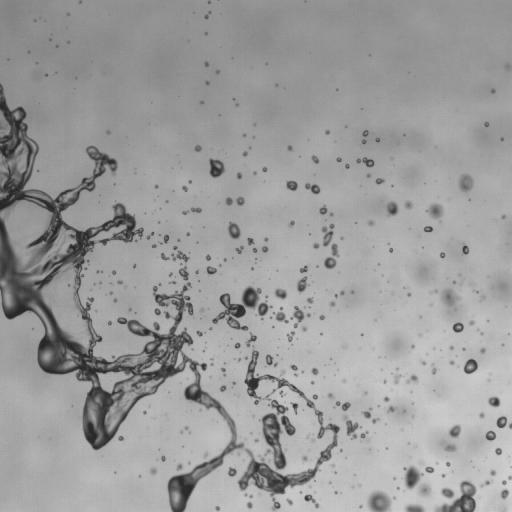droplet: (212, 286, 272, 330), (433, 480, 476, 511), (403, 465, 431, 496), (367, 490, 394, 511), (342, 415, 360, 439), (291, 306, 310, 327), (441, 288, 459, 305), (209, 158, 225, 177), (170, 246, 188, 262), (426, 203, 443, 218), (459, 174, 473, 191), (273, 307, 287, 323), (463, 358, 477, 374), (227, 221, 240, 238), (496, 416, 511, 429), (297, 276, 308, 292), (448, 424, 461, 437), (305, 183, 320, 194), (387, 201, 398, 216), (275, 288, 287, 299), (266, 354, 277, 366), (488, 396, 500, 407), (246, 333, 256, 346), (336, 401, 350, 410), (286, 180, 297, 190), (452, 322, 463, 332), (406, 374, 418, 383), (362, 407, 371, 418), (286, 331, 295, 341), (360, 431, 369, 441), (485, 431, 495, 440), (206, 266, 216, 274), (291, 402, 298, 413), (228, 467, 236, 476), (394, 373, 401, 383), (445, 444, 455, 451), (236, 197, 244, 205), (319, 206, 327, 214), (299, 265, 308, 272), (425, 466, 434, 473), (501, 489, 508, 498), (462, 244, 468, 254), (311, 155, 318, 163), (225, 197, 232, 205), (405, 201, 412, 208), (236, 246, 243, 253), (161, 253, 168, 260), (154, 308, 161, 315), (424, 226, 432, 232), (387, 406, 395, 412), (176, 463, 182, 471), (194, 145, 201, 151), (376, 178, 383, 184), (290, 365, 297, 371), (311, 368, 318, 374), (495, 448, 501, 455), (286, 498, 292, 505), (164, 234, 169, 242), (362, 130, 368, 136), (247, 238, 253, 244), (262, 246, 268, 252), (307, 297, 313, 303), (301, 325, 307, 331), (220, 385, 226, 391), (150, 468, 156, 474), (246, 502, 252, 508), (289, 220, 294, 227), (182, 185, 187, 191), (313, 243, 319, 248), (196, 331, 202, 336), (327, 393, 333, 398), (237, 172, 241, 179), (336, 157, 341, 162), (368, 220, 373, 225), (440, 252, 445, 257), (330, 301, 335, 306), (469, 320, 474, 325), (235, 343, 240, 348), (480, 348, 485, 353), (384, 396, 389, 401), (479, 413, 484, 418), (302, 456, 307, 461), (490, 470, 495, 475), (372, 418, 378, 422), (243, 151, 247, 156), (262, 167, 267, 171), (206, 255, 210, 260), (117, 280, 122, 284), (319, 315, 324, 319), (449, 360, 454, 364), (313, 394, 317, 399), (118, 436, 123, 440), (310, 438, 315, 442), (161, 456, 165, 461), (204, 14, 208, 18), (484, 122, 488, 126), (325, 130, 329, 134), (288, 146, 292, 150), (345, 164, 349, 168), (340, 291, 344, 295), (200, 308, 204, 312), (421, 360, 425, 364), (254, 438, 258, 442), (446, 462, 450, 466), (502, 480, 506, 484), (215, 506, 219, 510), (170, 281, 175, 284), (205, 62, 208, 66), (362, 139, 365, 143), (183, 211, 187, 214), (264, 237, 268, 240), (253, 248, 256, 252), (389, 248, 392, 252), (112, 271, 116, 274), (113, 299, 117, 302), (107, 321, 111, 324), (185, 426, 188, 430), (508, 476, 511, 480), (506, 65, 509, 68), (206, 81, 209, 84), (491, 89, 494, 92), (376, 138, 379, 141), (502, 215, 505, 218), (407, 293, 410, 296), (450, 346, 453, 349), (232, 382, 235, 385), (204, 453, 207, 456), (359, 505, 362, 508), (243, 134, 246, 136), (500, 138, 503, 140), (367, 174, 369, 177), (155, 185, 157, 188), (186, 233, 189, 235), (153, 244, 155, 247), (195, 271, 198, 273), (169, 273, 172, 275), (110, 291, 112, 294), (334, 294, 337, 296), (482, 296, 484, 299), (411, 345, 414, 347), (238, 358, 241, 360), (343, 379, 345, 382), (383, 380, 386, 382), (143, 411, 146, 413), (420, 462, 423, 464), (442, 474, 444, 477), (502, 509, 505, 511), (79, 0, 81, 2), (217, 71, 219, 73), (107, 131, 109, 133), (254, 172, 256, 174), (330, 213, 332, 215), (474, 290, 476, 292), (294, 374, 296, 376), (311, 381, 313, 383), (331, 464, 333, 466)
ligament: (0, 83, 339, 511), (322, 224, 338, 269), (304, 494, 319, 507), (356, 157, 374, 167), (404, 504, 425, 511), (481, 480, 491, 486), (190, 207, 201, 212), (431, 364, 436, 374), (146, 232, 153, 239), (244, 493, 252, 497), (221, 367, 225, 374)
